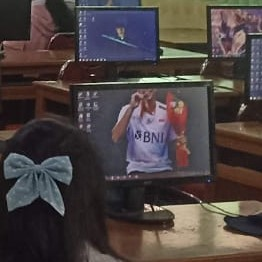monitor: (68, 80, 217, 186), (74, 6, 160, 65), (206, 5, 261, 60), (237, 33, 262, 122), (0, 0, 32, 43)
